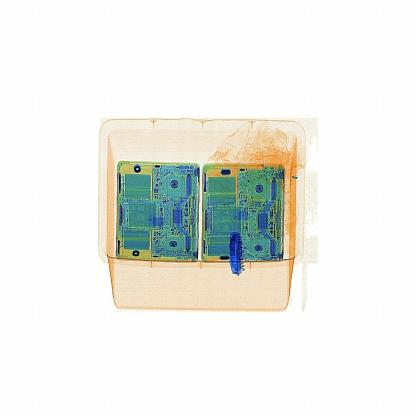scissors: (223, 224, 258, 284)
